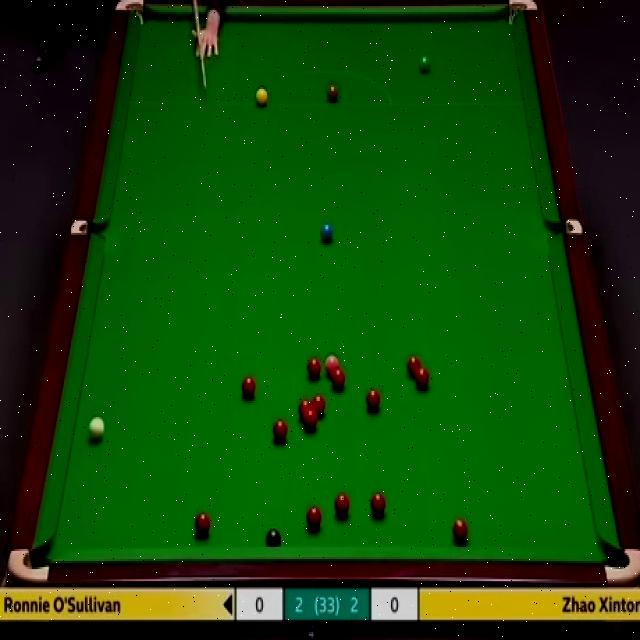black-ball: (265, 529, 282, 547)
blue-ball: (319, 219, 334, 244)
brown-ball: (327, 84, 338, 103)
green-ball: (416, 55, 432, 74)
pink-ball: (326, 355, 340, 377)
red-ball: (452, 515, 469, 545), (408, 349, 424, 378), (194, 511, 211, 537), (370, 491, 386, 518), (334, 492, 350, 518), (414, 368, 431, 392), (307, 505, 322, 531), (365, 388, 380, 413), (312, 394, 326, 420), (242, 378, 257, 402), (331, 367, 346, 390), (273, 419, 287, 443), (298, 399, 312, 419), (304, 411, 317, 431), (308, 360, 321, 379)
white-ball: (87, 413, 105, 442)
yellow-ball: (255, 86, 268, 106)
